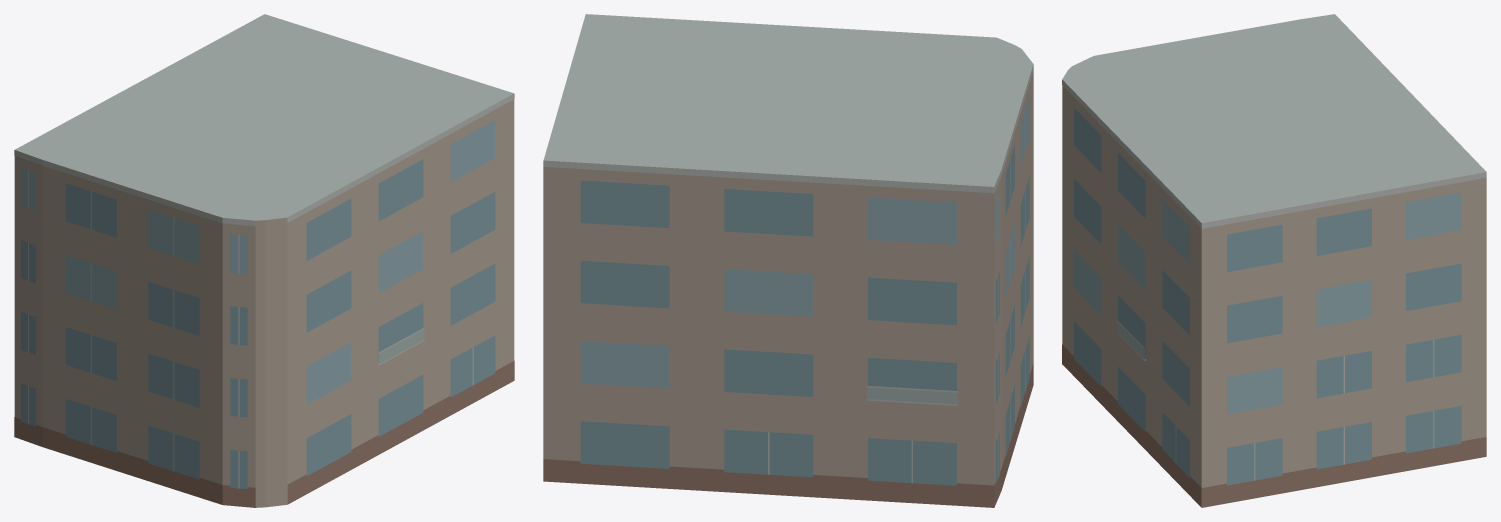
The model's file is survey-upis-32866141.glb.
3 renders of one model, left to right at view 1: azimuth 30°, elevation 25°; view 2: azimuth 150°, elevation 25°; view 3: azimuth 270°, elevation 25°, orthographic. The views are drawn at different scales.
Parts seen in each view (by area): view 1: survey-upis-32866141.tmp; view 2: survey-upis-32866141.tmp; view 3: survey-upis-32866141.tmp.
Part boxes in pixels (x1,y1,x2,y2): survey-upis-32866141.tmp: (14, 14, 514, 507); survey-upis-32866141.tmp: (543, 14, 1033, 507); survey-upis-32866141.tmp: (1062, 14, 1486, 507).
Bounding box in the file's own units: 19.48 × 12.35 × 16.71.
